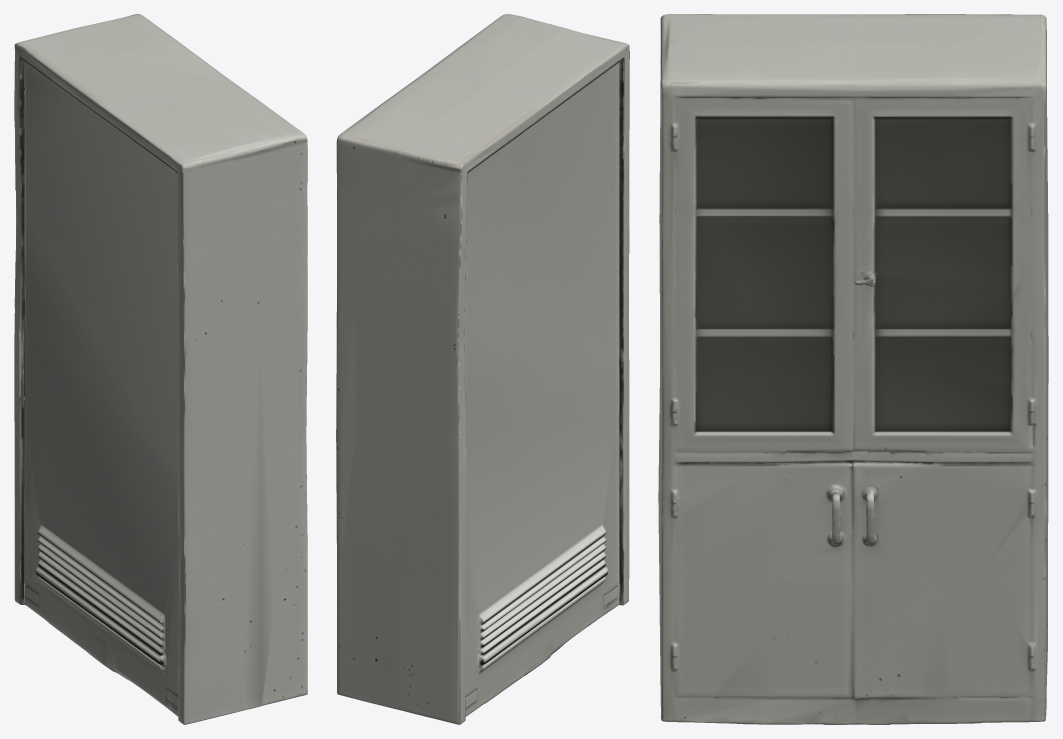
The picture shows the model from 3 angles, left to right: view 1: azimuth 30°, elevation 25°; view 2: azimuth 150°, elevation 25°; view 3: azimuth 270°, elevation 25°; orthographic projection. The views are drawn at different scales.
Parts seen in each view (by area): view 1: repaired; view 2: repaired; view 3: repaired.
Boxes of the visible parts, <box> form: repaired: <box>14,14,307,724</box>; repaired: <box>336,14,629,724</box>; repaired: <box>658,14,1048,724</box>.
Size of the model in its own units: 0.2584 by 0.9995 by 0.5482.
Materials: 1 (1 with a texture image).
